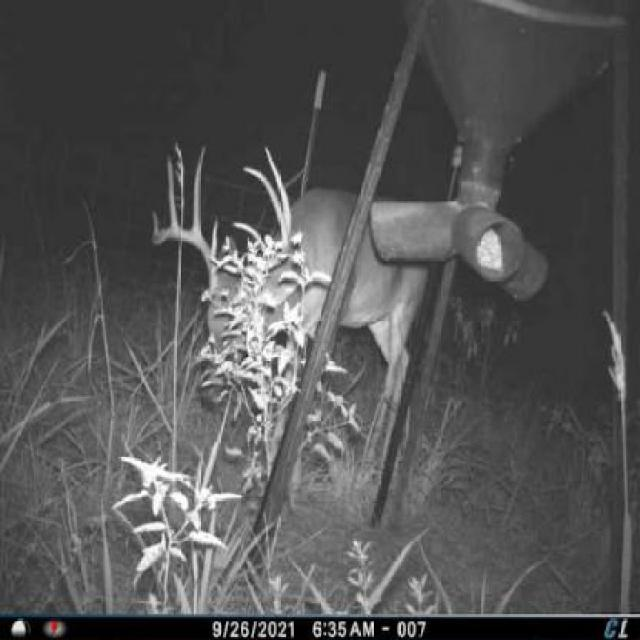Deer: (149, 133, 440, 504)
